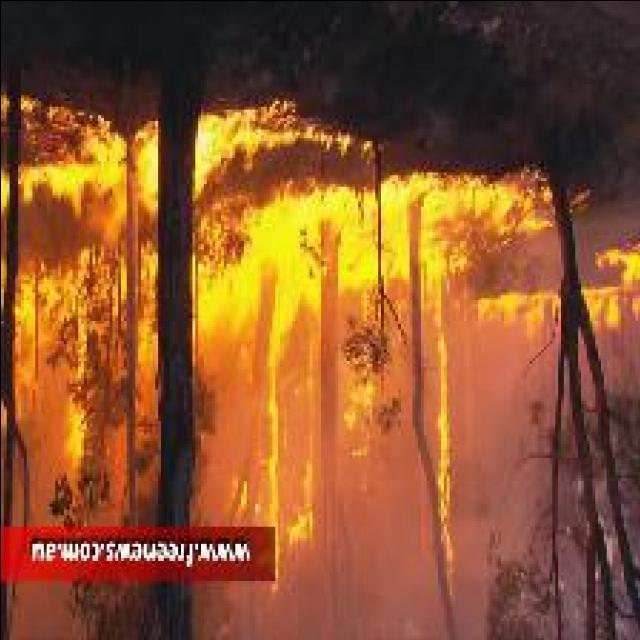Fire: (193, 168, 553, 598), (14, 240, 154, 466), (193, 103, 376, 206), (0, 123, 160, 220), (468, 290, 560, 333), (580, 286, 640, 332), (592, 242, 640, 288)
